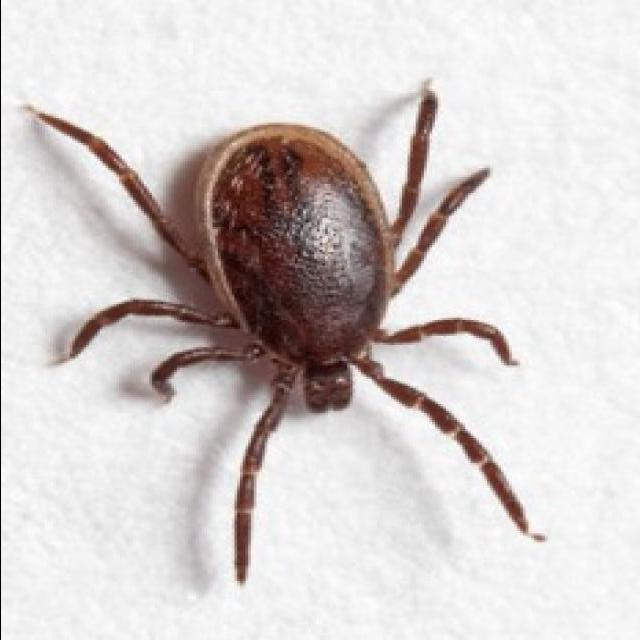Ixodes Ricinus-M: (33, 84, 544, 583)
